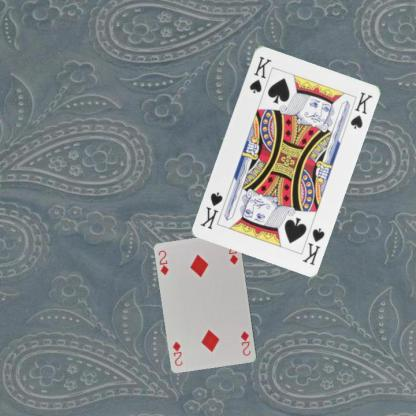2d: (238, 329, 252, 357), (156, 248, 170, 276)
Ks: (299, 225, 326, 266), (246, 53, 272, 95)
